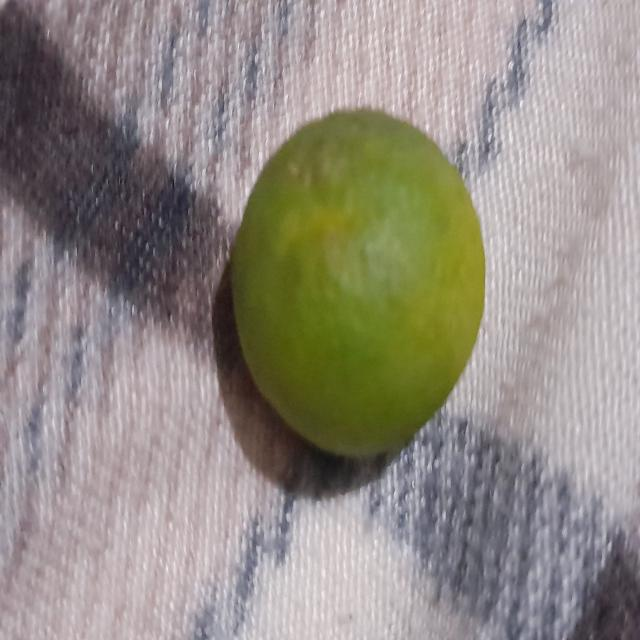heathy: (224, 90, 492, 468)
